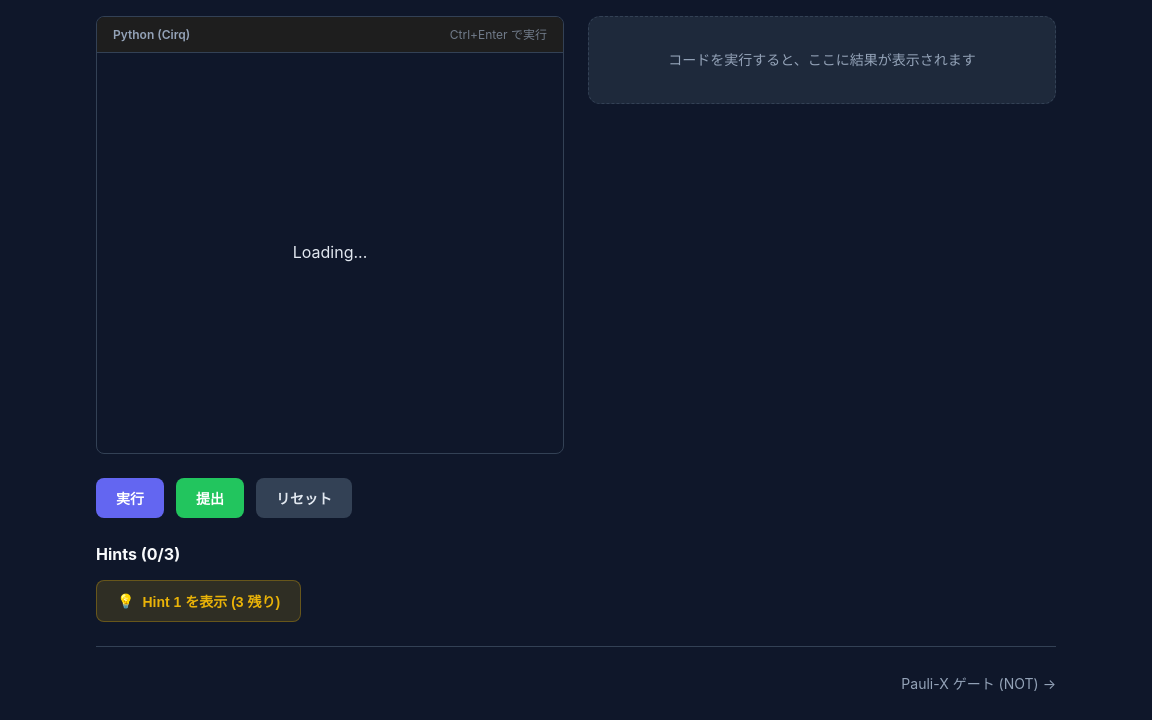
Test: KataDetail › shows hints progressively when hint button is clicked
(page scrolled)
Click the button with test id "show-next-hint" at (199, 601), box [96, 580, 301, 622]
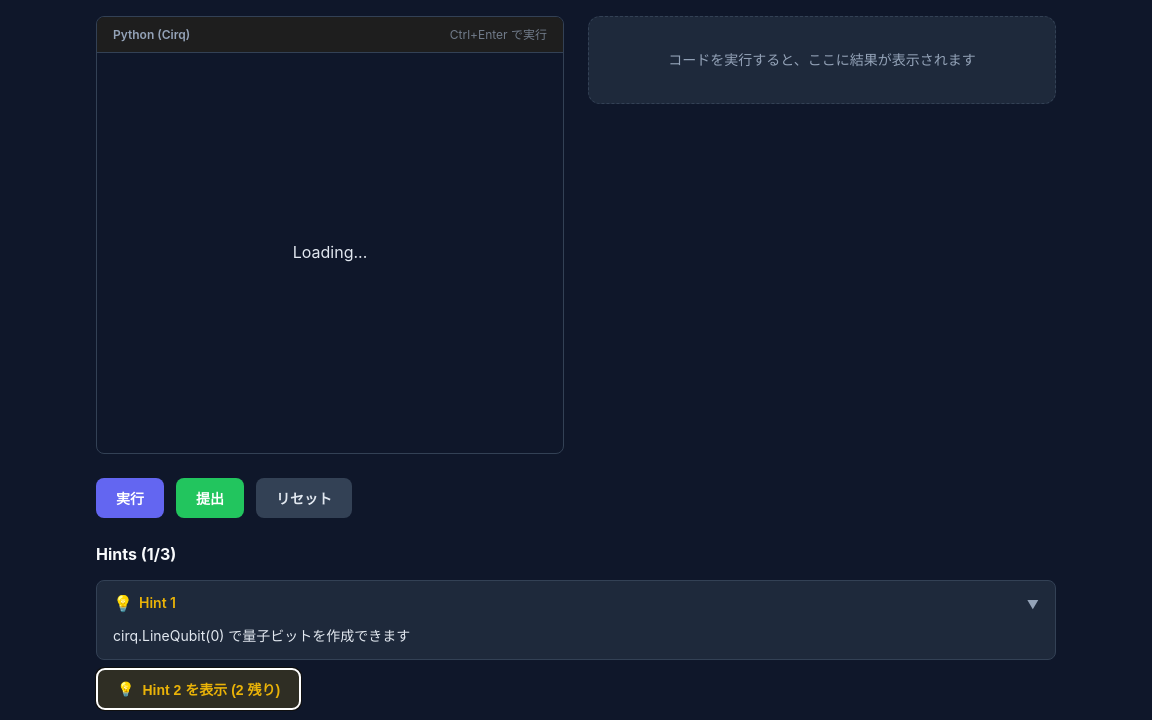
Check: the text "cirq.LineQubit(0) で量子ビットを作成できます" is shown, box [113, 627, 410, 644]
